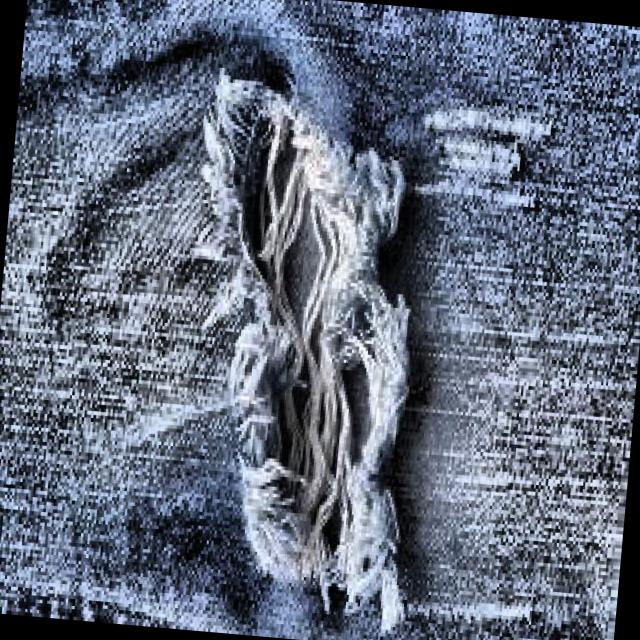cut: (150, 55, 463, 638), (396, 82, 574, 225)
